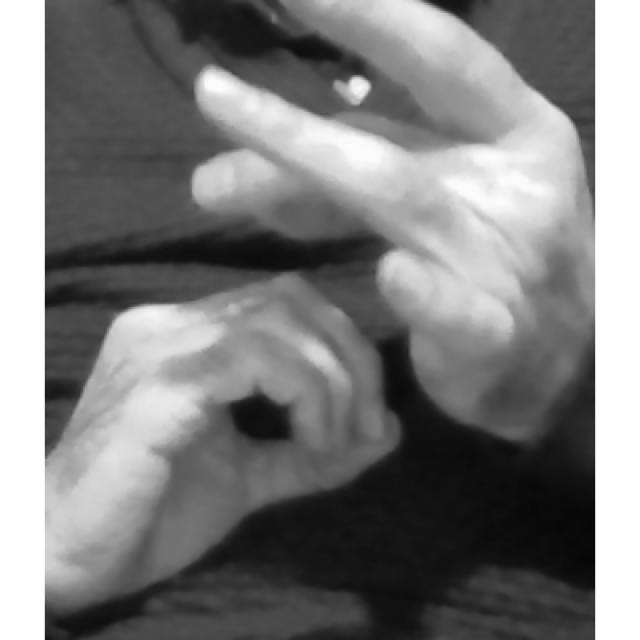O--: (46, 0, 594, 627)
